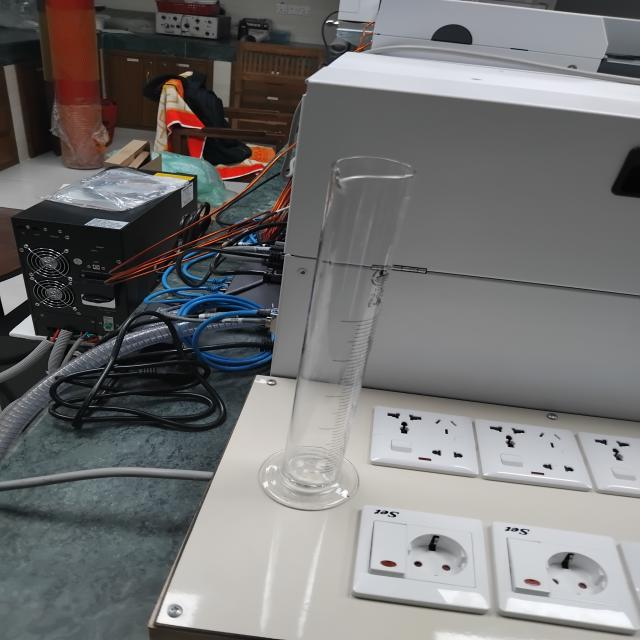Measuring_Cylinder: (258, 117, 408, 538)
